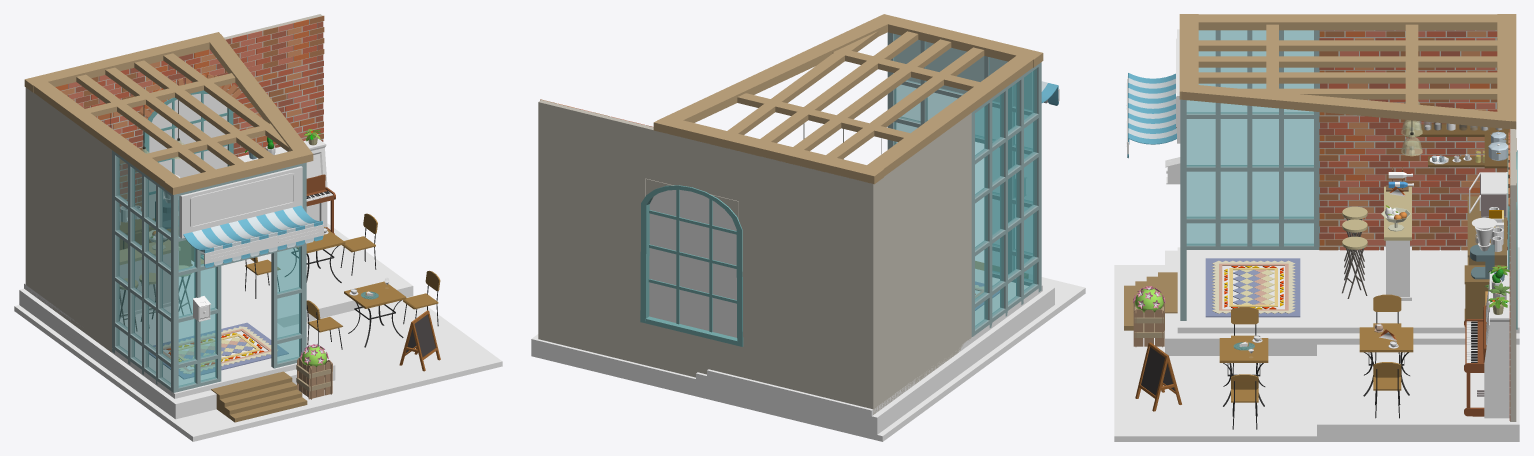
Rendered from coffee_shop.glb.
The picture shows the model from 3 angles, left to right: view 1: azimuth 30°, elevation 25°; view 2: azimuth 150°, elevation 25°; view 3: azimuth 270°, elevation 25°; orthographic projection. The views are drawn at different scales.
Visible parts, largest first — view 1: box_1001, box_14, box_15, box_525, box_539, box_166, box_16, box_560, box_1580, box_529, box_547, box_531 (+29 smaller); view 2: box_1580, box_1001, box_547, box_525, box_16, box_539, box_14, box_15, box_529, box_530, box_531, annulus_540 (+19 smaller); view 3: box_14, box_525, box_15, box_166, box_1001, box_530, box_529, box_16, box_533, box_532, box_535, box_165 (+38 smaller).
Boxes of the visible parts, x1,y1,x2,y2 form: box_1001: (25,89,111,352); box_14: (14,296,502,441); box_15: (205,223,413,327); box_525: (116,156,170,385); box_539: (178,196,300,387); box_166: (24,266,298,398); box_16: (19,260,335,419); box_560: (179,166,302,238); box_1580: (25,14,323,285); box_529: (25,77,187,194); box_547: (149,93,227,218); box_531: (24,32,223,92); box_1580: (538,100,876,413); box_1001: (868,113,971,414); box_547: (649,190,736,337); box_525: (975,68,1036,328); box_16: (696,284,1054,434); box_539: (894,34,1032,280); box_14: (531,274,1085,441); box_15: (531,334,871,433); box_529: (857,48,1041,183); box_530: (657,15,895,125); box_531: (653,116,883,184); annulus_540: (640,185,743,346); box_14: (1114,265,1519,441); box_525: (1186,30,1313,245); box_15: (1317,344,1519,436); box_166: (1177,247,1519,333); box_1001: (1320,30,1507,249); box_530: (1181,84,1514,128); box_529: (1180,14,1516,30); box_16: (1165,250,1519,355); box_533: (1198,56,1497,67); box_532: (1198,40,1497,51); box_535: (1198,72,1497,83); box_165: (1177,262,1519,317).
Bounding box in the file's own units: 6.4 × 4.56 × 6.4.
